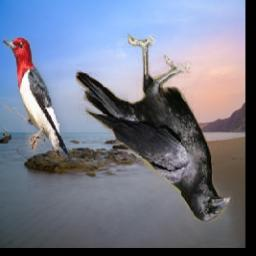Crow: (76, 33, 233, 225)
Woodpecker: (3, 36, 68, 161)
